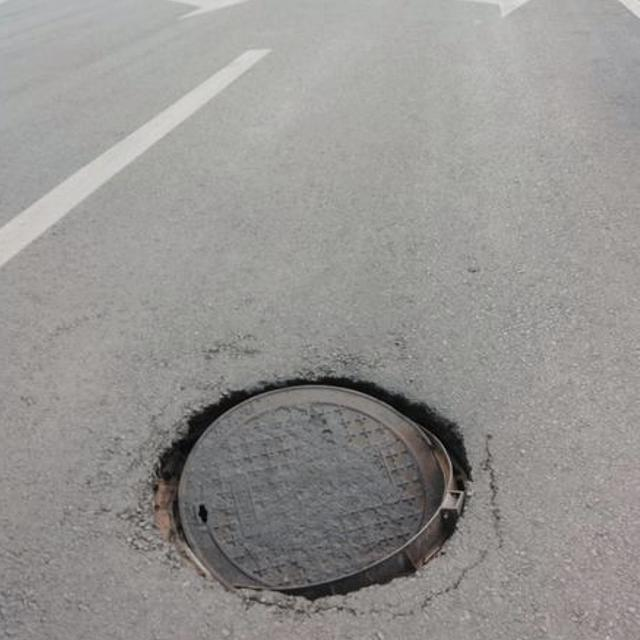circle: (115, 356, 525, 621)
